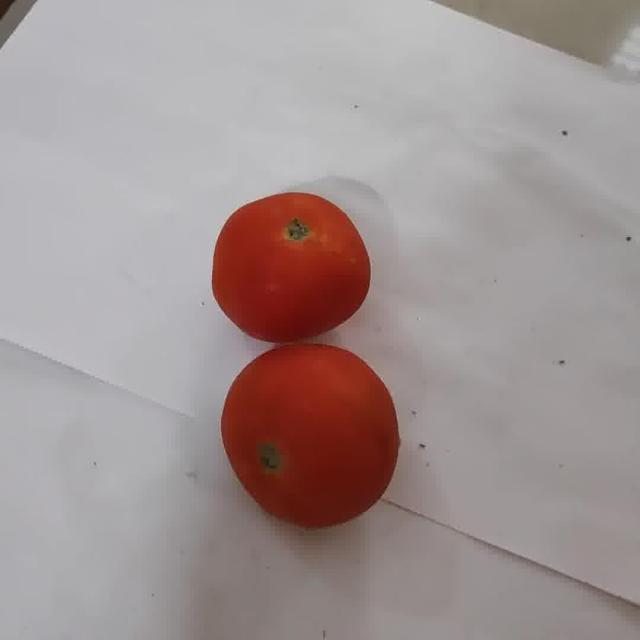Tomato: (219, 344, 399, 527), (212, 193, 370, 343)
